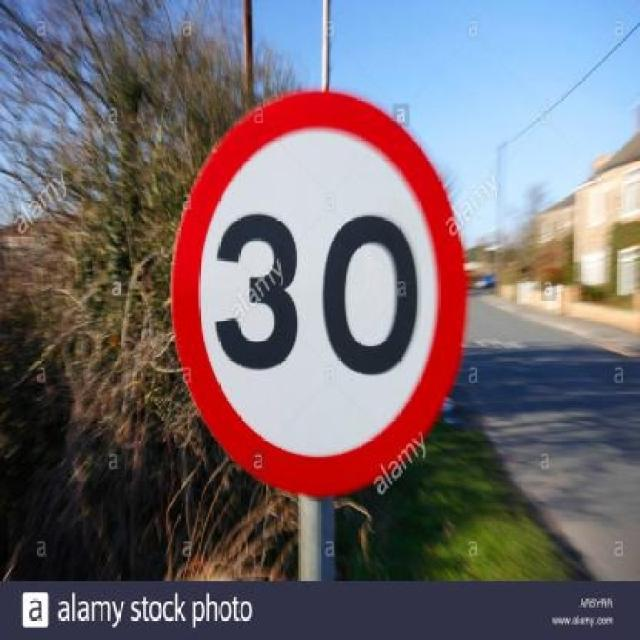forb_speed_over_30: (175, 104, 483, 488)
